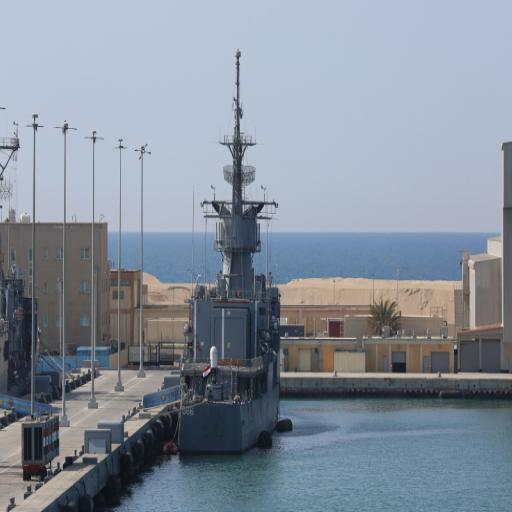Fragata: (171, 33, 285, 463)
